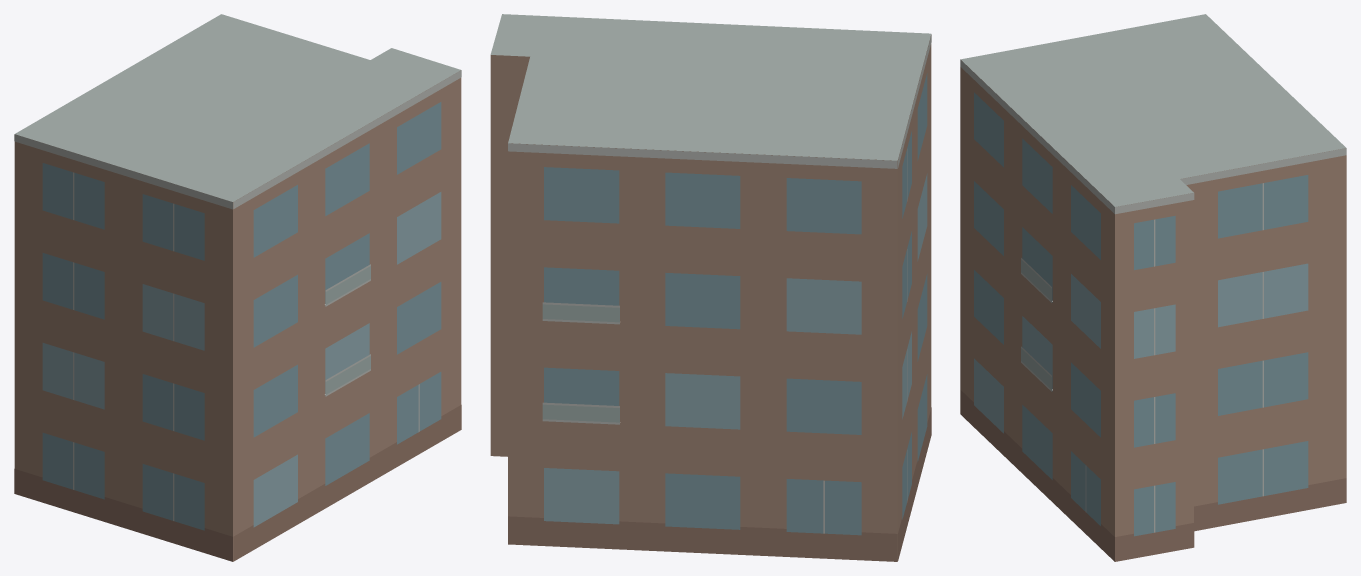
Rendered from survey-upis-32598105.glb.
3 renders of one model, left to right at view 1: azimuth 30°, elevation 25°; view 2: azimuth 150°, elevation 25°; view 3: azimuth 270°, elevation 25°, orthographic. The views are drawn at different scales.
Parts seen in each view (by area): view 1: survey-upis-32598105.tmp; view 2: survey-upis-32598105.tmp; view 3: survey-upis-32598105.tmp.
Boxes of the visible parts, box(x1,y1,x2,y2) form: survey-upis-32598105.tmp: box(14, 14, 461, 561); survey-upis-32598105.tmp: box(490, 14, 931, 561); survey-upis-32598105.tmp: box(960, 14, 1346, 561).
Bounding box in the file's own units: 13.89 × 11.9 × 11.74.
